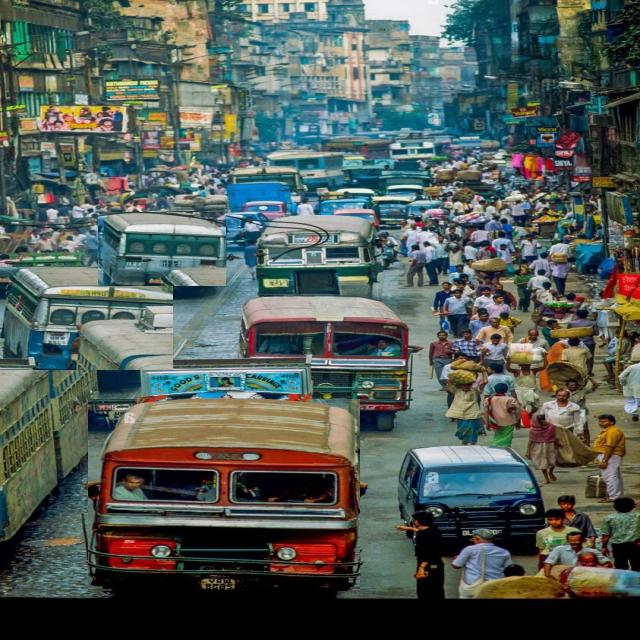bus: (89, 399, 360, 591), (239, 296, 412, 429), (0, 267, 173, 370), (256, 215, 381, 297), (99, 213, 226, 286)
car: (398, 445, 546, 544)
